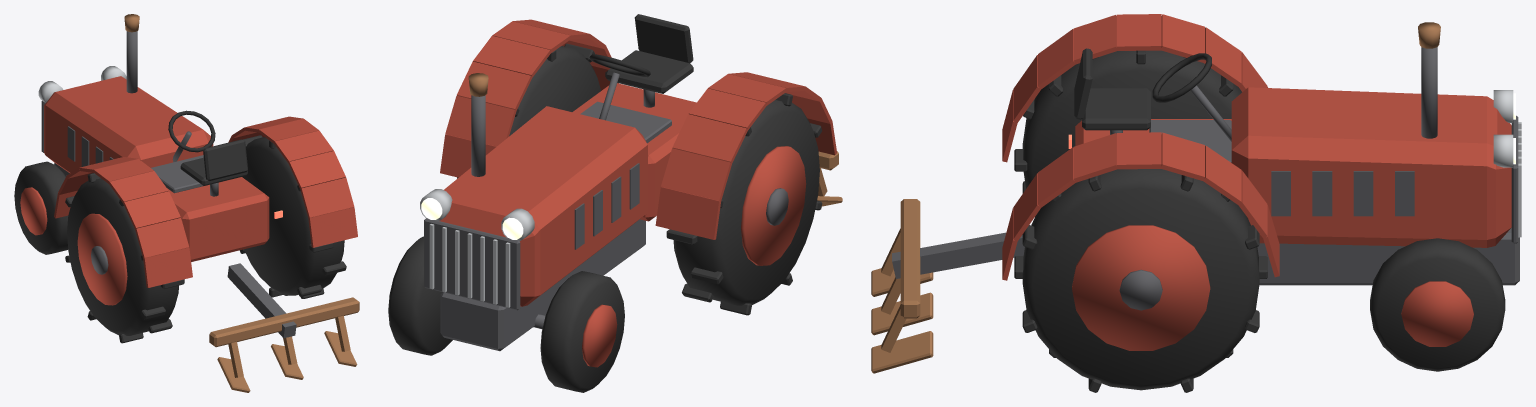
Rendered from v_tractor.glb.
3 renders of one model, left to right at view 1: azimuth 30°, elevation 25°; view 2: azimuth 150°, elevation 25°; view 3: azimuth 270°, elevation 25°, orthographic. The views are drawn at different scales.
Visible parts, largest first — view 1: Traktor; view 2: Traktor; view 3: Traktor.
Part boxes in pixels (x1=…): Traktor: x1=14, y1=14, x2=359, y2=392; Traktor: x1=388, y1=14, x2=842, y2=392; Traktor: x1=871, y1=14, x2=1521, y2=392.
Size of what is drawn, in the model's own units: 2.22 by 2.16 by 3.95.
